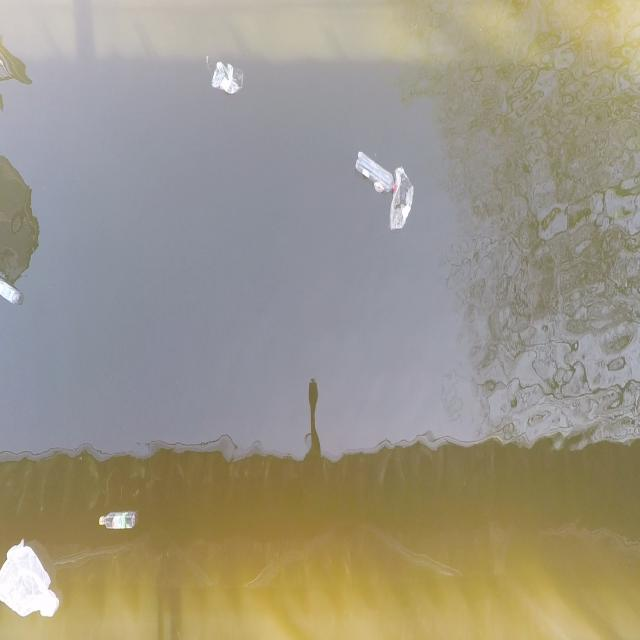Bouteille plastique: (350, 149, 397, 194), (96, 502, 136, 543)
Sac plastique: (0, 534, 63, 624), (388, 163, 418, 240), (210, 53, 244, 103)
